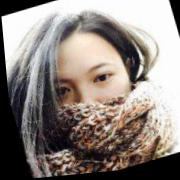WRONG: (38, 54, 141, 155)
